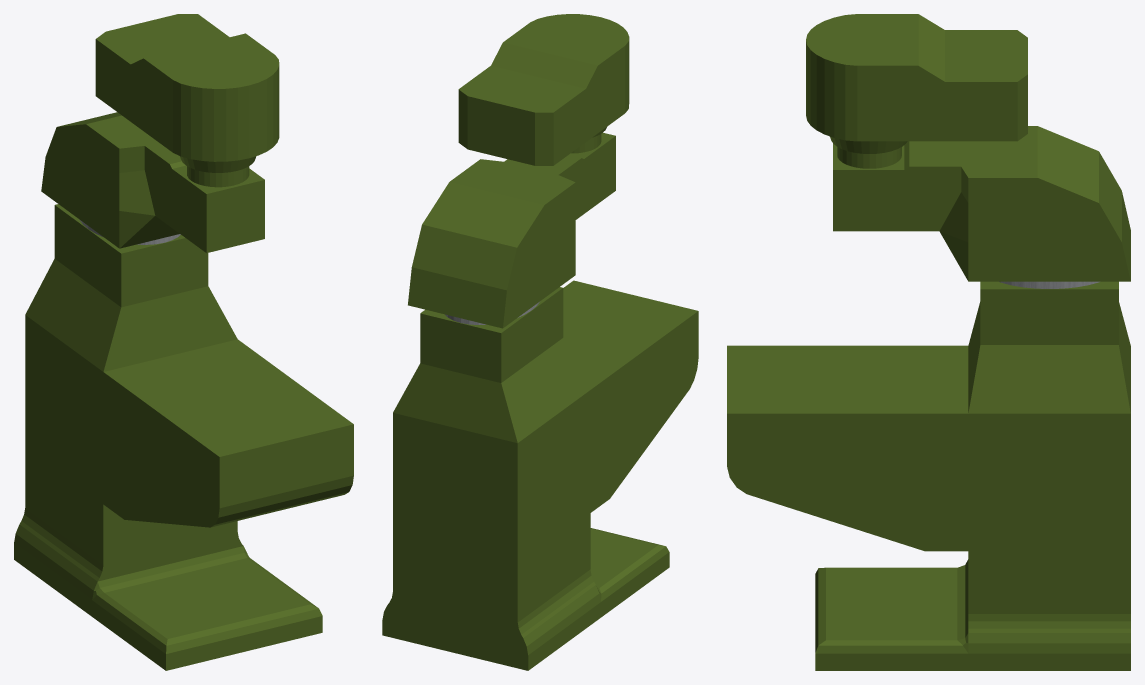
The model's file is milling.fbx.
3 renders of one model, left to right at view 1: azimuth 30°, elevation 25°; view 2: azimuth 150°, elevation 25°; view 3: azimuth 270°, elevation 25°, orthographic. The views are drawn at different scales.
Parts seen in each view (by area): view 1: Cube; view 2: Cube; view 3: Cube.
Boxes of the visible parts, left/top/right/bottom form: Cube: left=14, top=14, right=353, bottom=670; Cube: left=382, top=14, right=698, bottom=670; Cube: left=727, top=14, right=1130, bottom=670.
Size of the model in its own units: 231 by 803 by 497.
